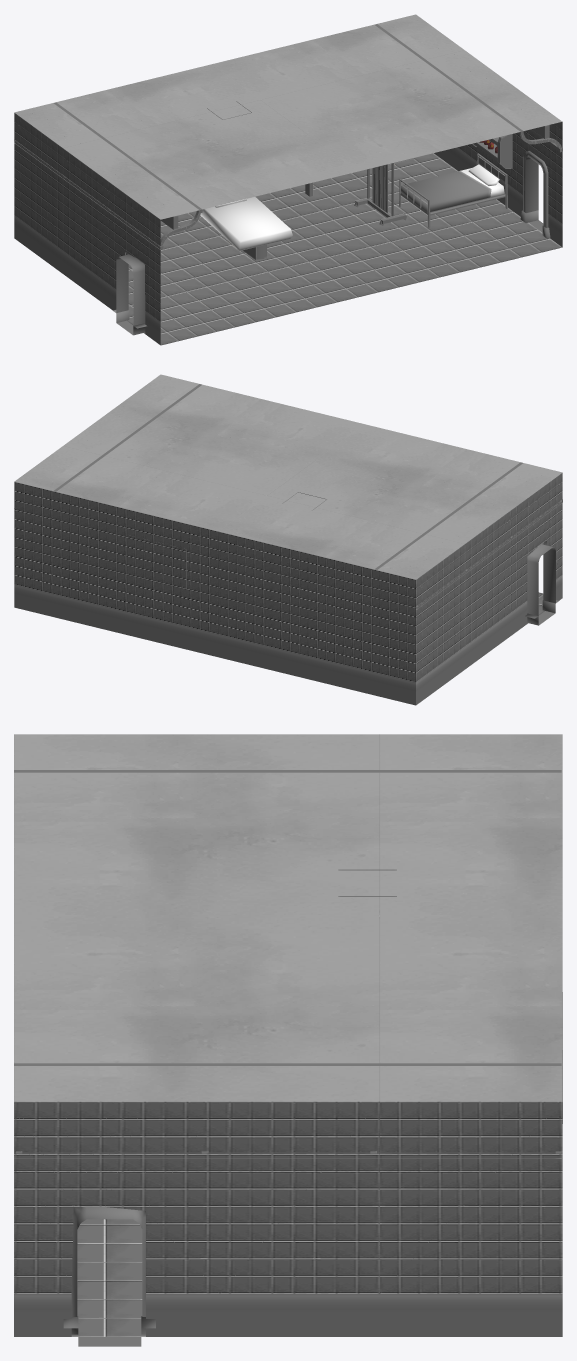
The model's file is MSH_Med_room_L2_R2_optimized.fbx.
The picture shows the model from 3 angles, top to bottom: view 1: azimuth 30°, elevation 25°; view 2: azimuth 150°, elevation 25°; view 3: azimuth 270°, elevation 25°; orthographic projection. The views are drawn at different scales.
Parts seen in each view (by area): view 1: lightmap1, lightmap-1; view 2: lightmap1, lightmap-1; view 3: lightmap1, lightmap-1.
Boxes of the visible parts, x1,y1,x2,y2 form: lightmap1: (14, 14, 562, 345); lightmap-1: (116, 157, 543, 335); lightmap1: (14, 374, 562, 705); lightmap-1: (527, 544, 555, 625); lightmap1: (14, 734, 562, 1336); lightmap-1: (77, 1208, 142, 1346).
Size of the model in its own units: 20.61 by 5.97 by 12.39.
4 materials, 4 textured.
